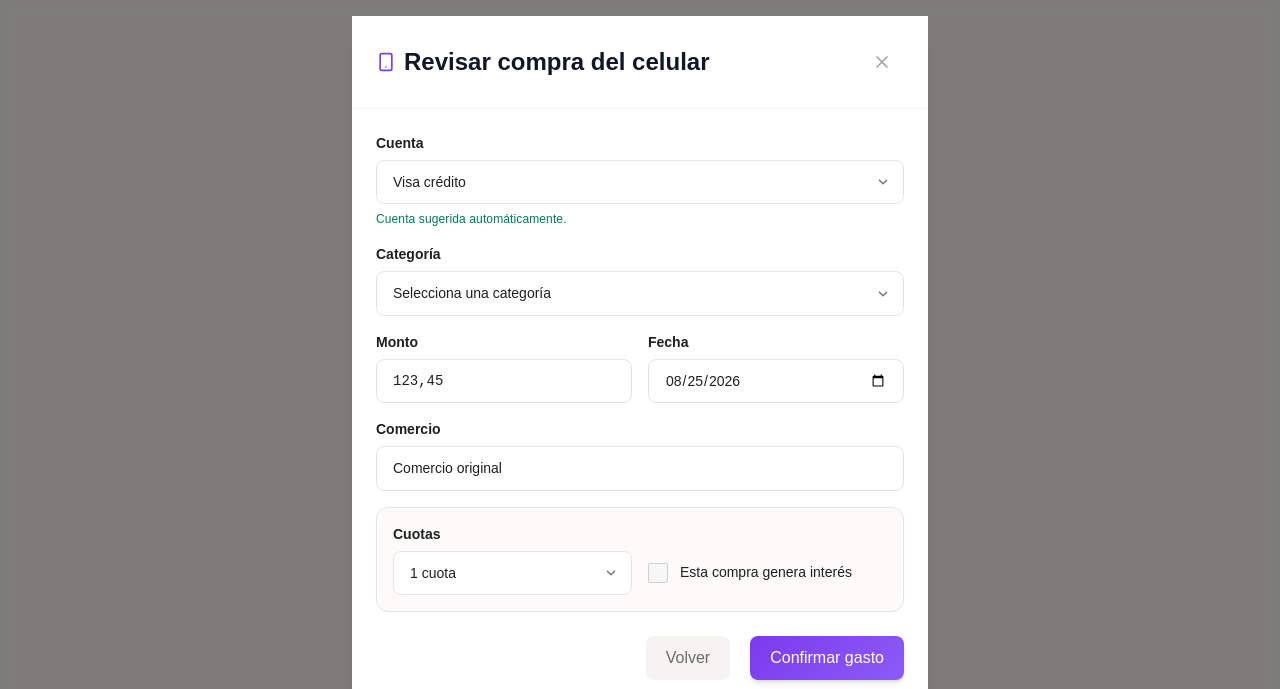
TransactionImportReviewModal › keeps server failures and the edited values visible for repair
Select "Alimentación" in the dropdown labelled "Categoría": (640, 294) [376, 271, 904, 316]
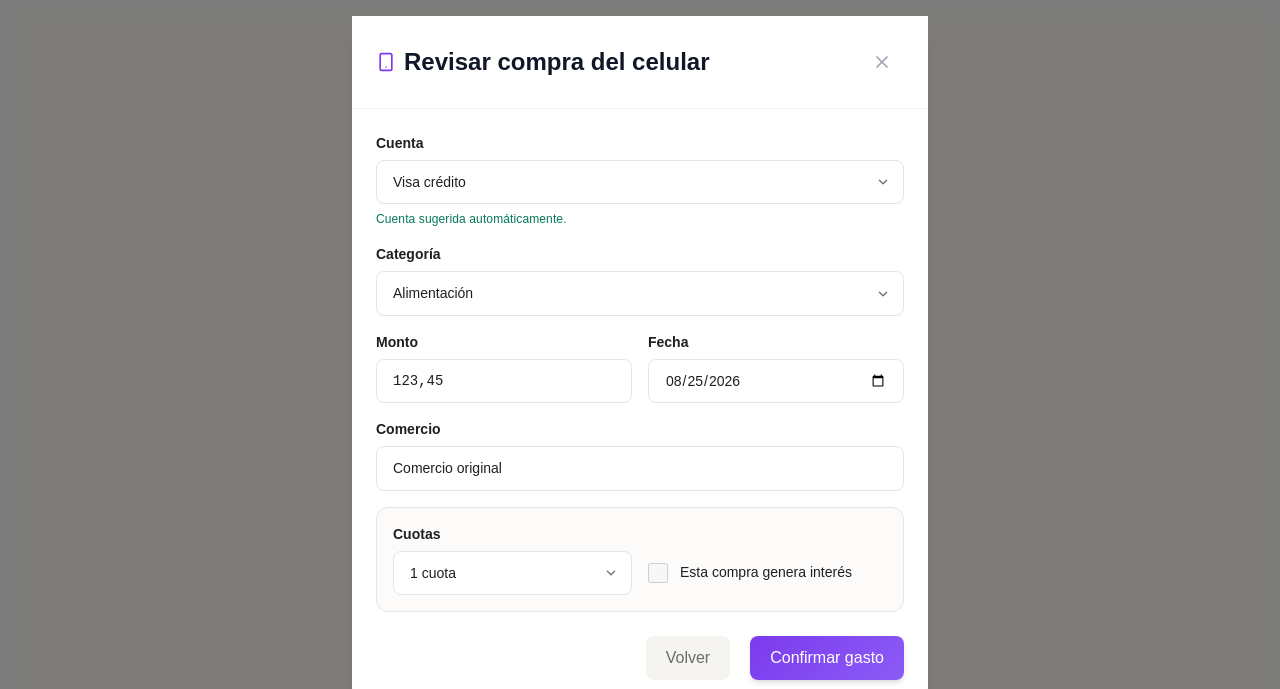
Replace the text in the field labelled "Comercio" with "Valor preservado": (640, 468) [376, 446, 904, 491]
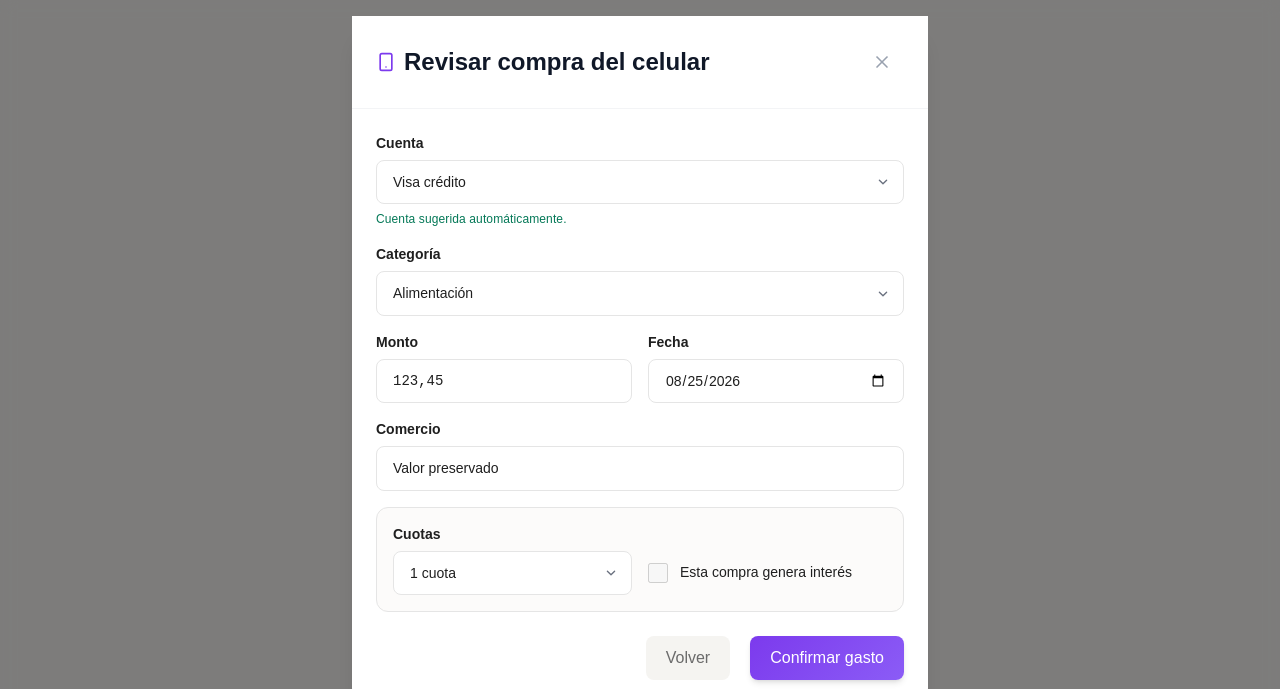
Click the button "Confirmar gasto": (827, 658) [750, 636, 904, 680]
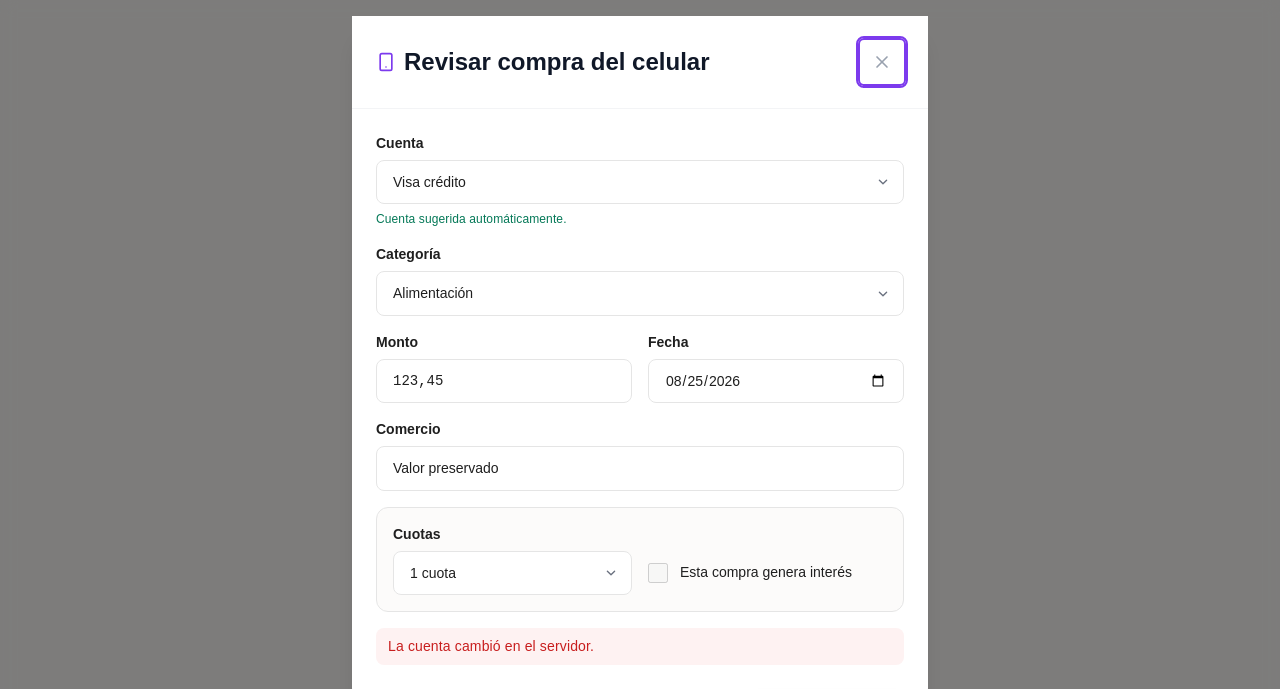
Check: the message reads "La cuenta cambió en el servidor.", box [388, 638, 594, 654]
